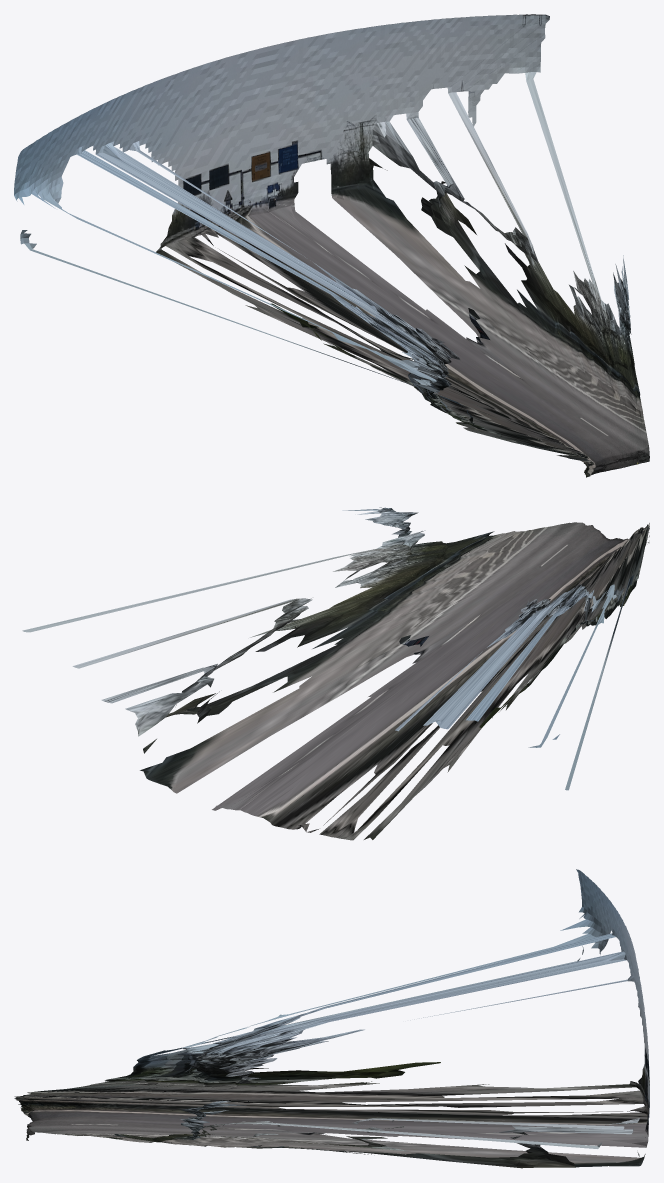
3 views of the same model, one above another, from view 1: azimuth 30°, elevation 25°; view 2: azimuth 150°, elevation 25°; view 3: azimuth 270°, elevation 25° (orthographic). The views are drawn at different scales.
Visible parts, largest first — view 1: defaultobject; view 2: defaultobject; view 3: defaultobject.
Boxes of the visible parts, x1,y1,x2,y2 form: defaultobject: (14,14,649,477); defaultobject: (22,507,649,840); defaultobject: (14,869,649,1168).
Size of the model in its own units: 38.72 by 12.37 by 45.11.
Materials: 1 (1 with a texture image).
